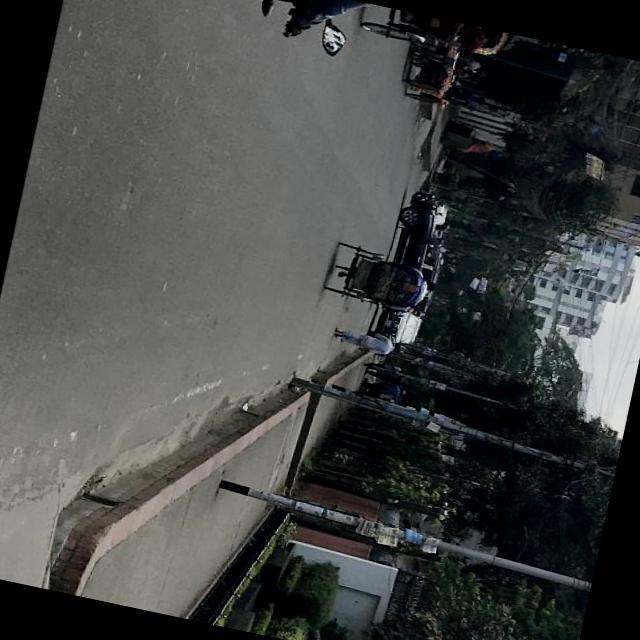car: (386, 188, 453, 277), (369, 304, 422, 348)
motorcycle: (91, 0, 369, 61), (363, 6, 512, 66), (324, 238, 430, 315)
